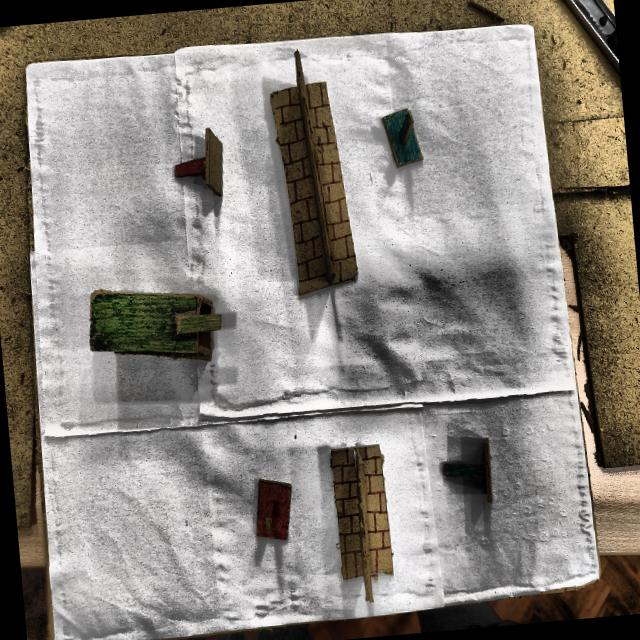Dead soldier -enemy-: (169, 127, 231, 200), (253, 469, 296, 565)
Dead soldier -frd-: (440, 437, 497, 521)
Tank: (87, 289, 227, 364)
Wall: (268, 51, 360, 298), (327, 445, 396, 598)
friend: (378, 105, 430, 179)
